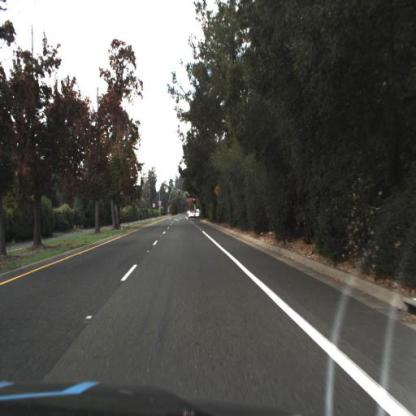car: (188, 211, 196, 219), (194, 211, 202, 218), (187, 210, 191, 214)
trafficLight-Red: (193, 198, 195, 204), (179, 189, 180, 195)
